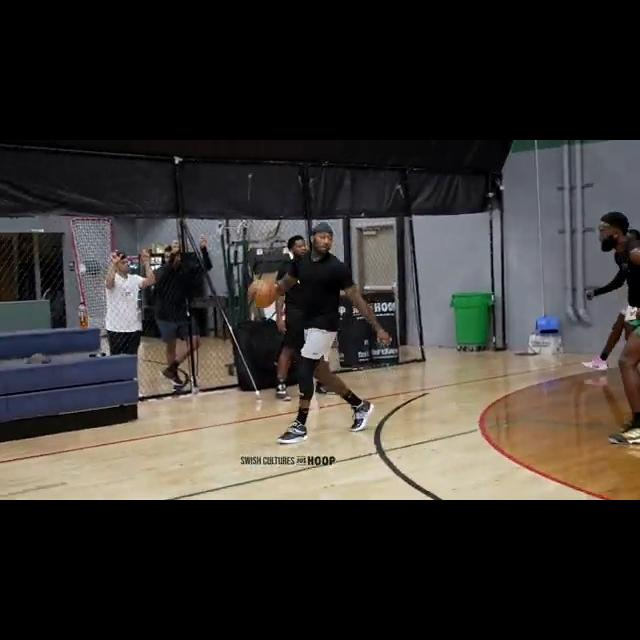basketball: (247, 279, 278, 308)
